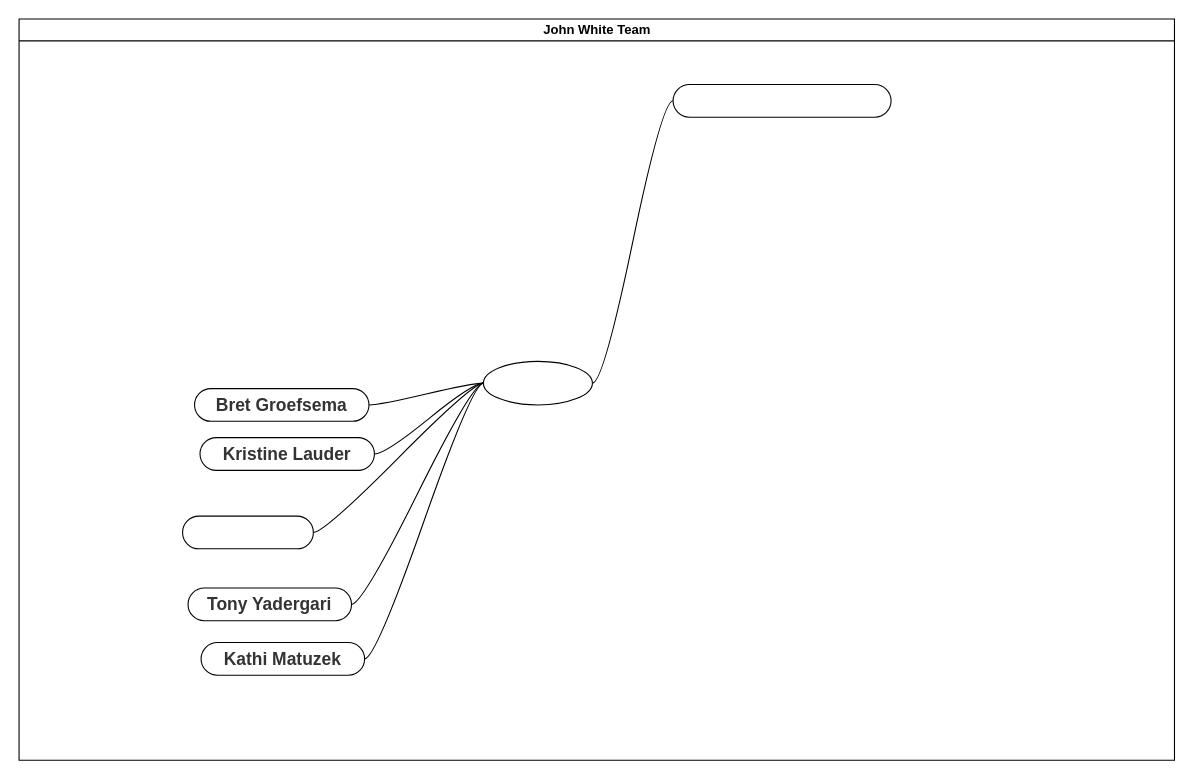
This 1194x779 diagram has some shape labels left out. The centre of each missing label's shape, as x and y in pixels:
"Elisa Mairs" belongs at (247,532).
"John White" belongs at (537,382).
"Thomas Vanderwater" belongs at (781,100).
